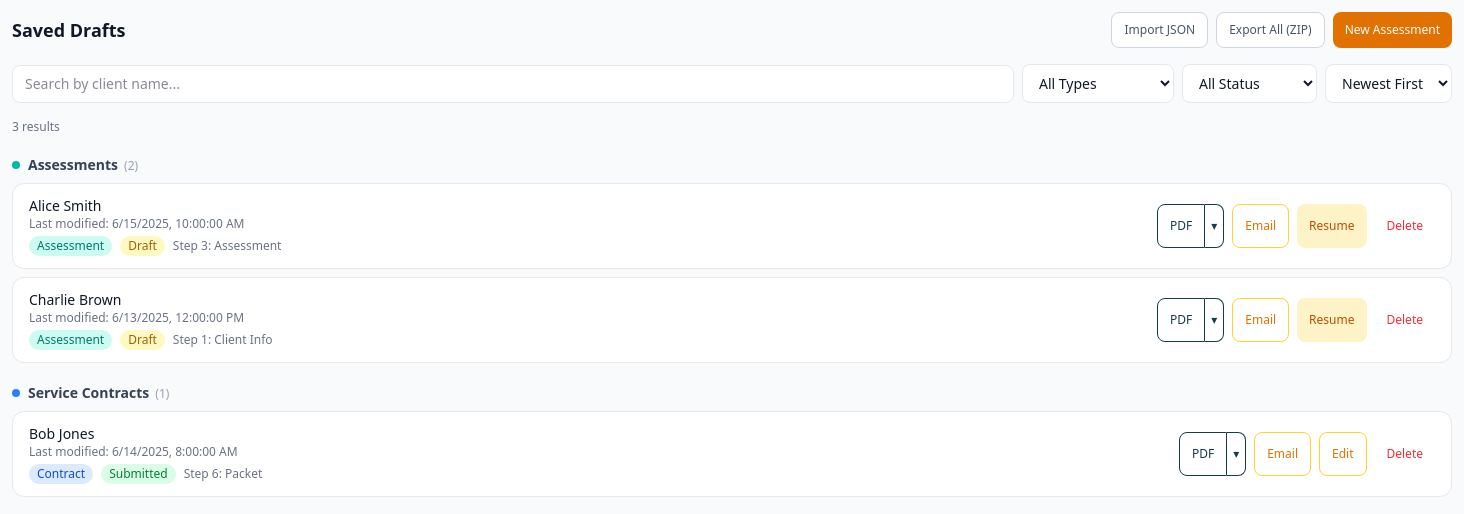
Test: DraftManager › filter and sort › shows no matching message when search finds nothing
Check: the text "Alice Smith" is shown, box [29, 196, 102, 215]
Type "zzzznotfound" into the field with placeholder "Search by client name...".
click(513, 84); type("zzzznotfound")  # box [12, 64, 1014, 102]
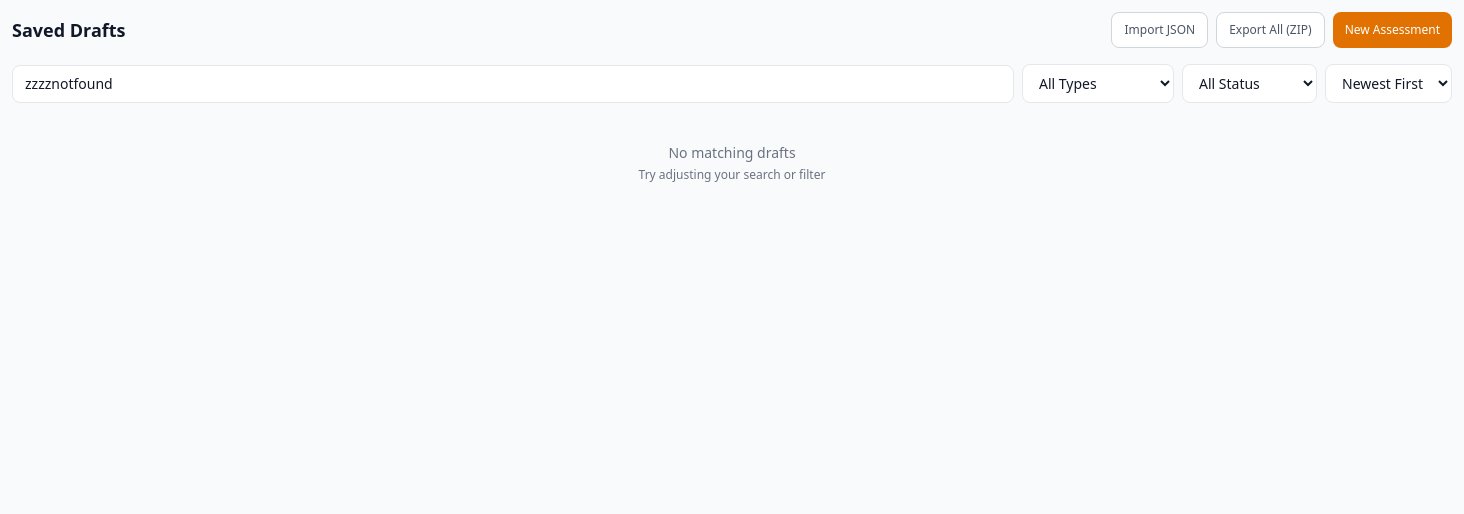
Check: the text "No matching drafts" is shown, box [668, 143, 796, 162]
